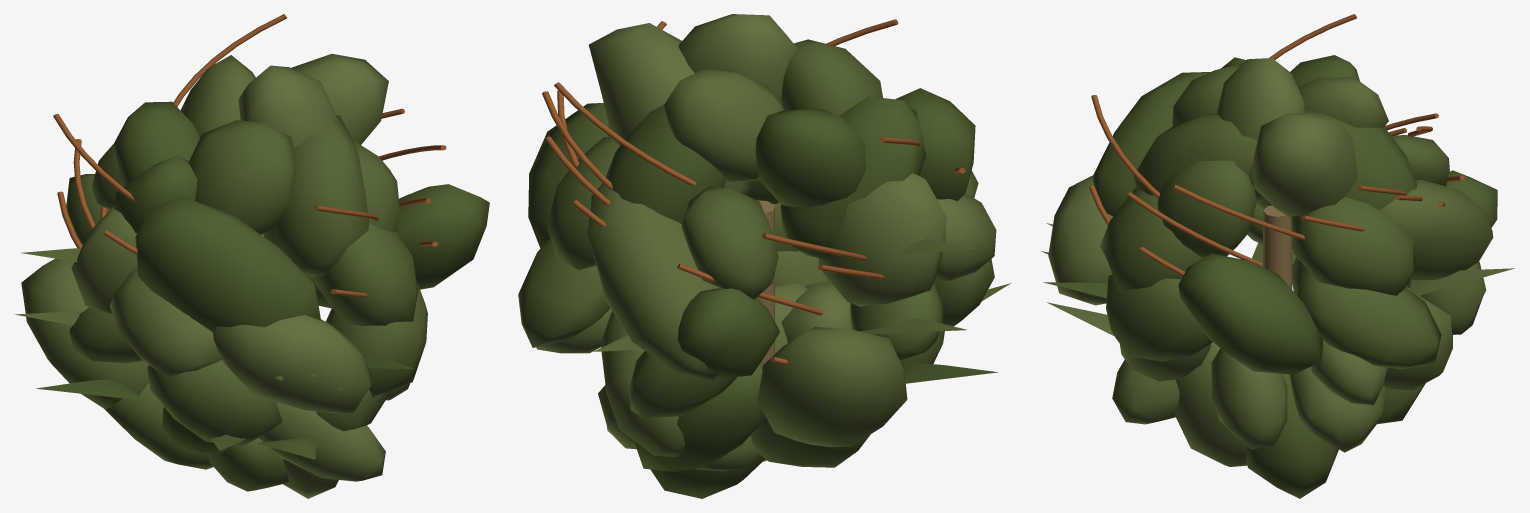
Rendered from bud_8.glb.
The picture shows the model from 3 angles, left to right: view 1: azimuth 30°, elevation 25°; view 2: azimuth 150°, elevation 25°; view 3: azimuth 270°, elevation 25°; orthographic projection. The views are drawn at different scales.
Parts seen in each view (by area): view 1: Bud_8; view 2: Bud_8; view 3: Bud_8.
Part boxes in pixels (x1,y1,x2,y2): Bud_8: (14,14,489,498); Bud_8: (518,14,1010,498); Bud_8: (1041,14,1514,498).
Size of the model in its own units: 0.00561 by 0.00538 by 0.00557.
